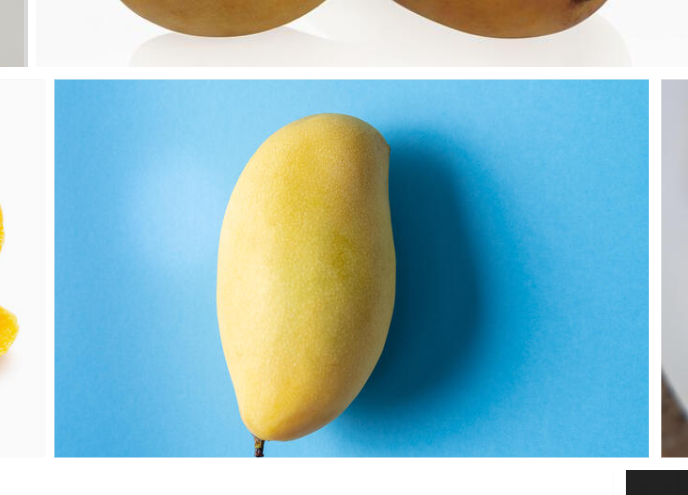mango: (214, 111, 397, 437)
